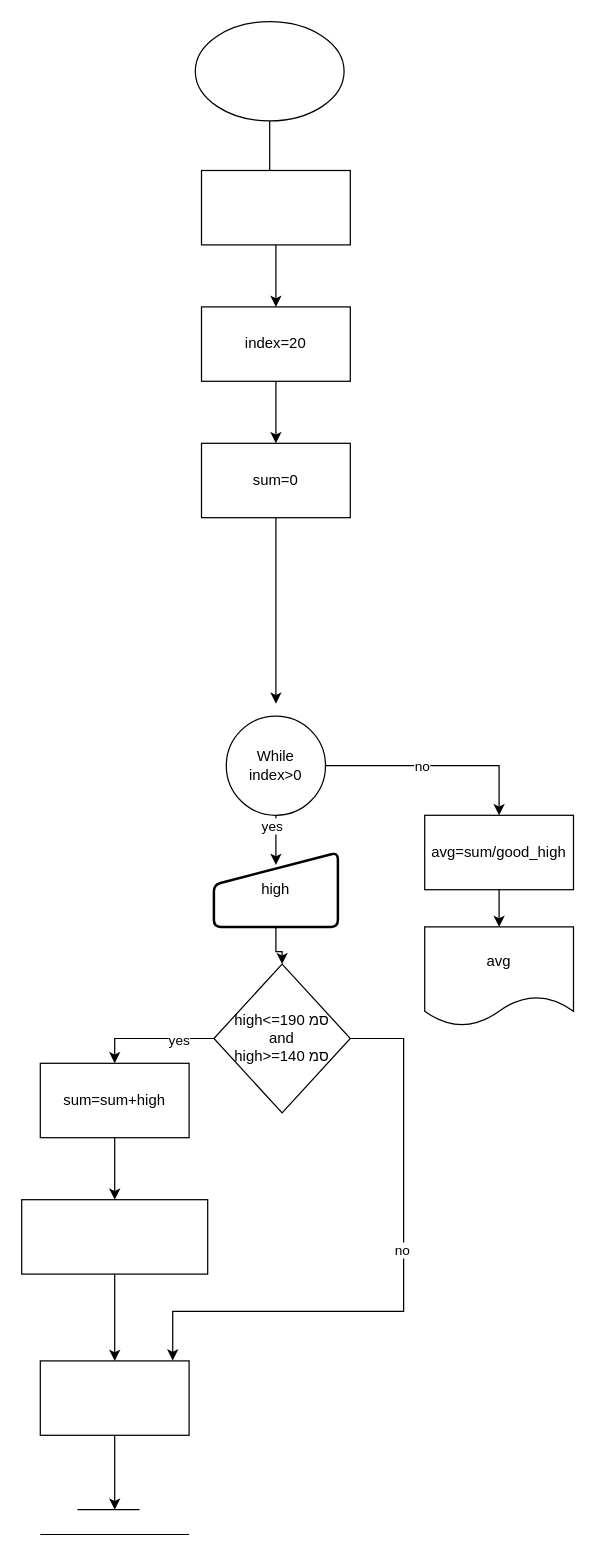
Image size: 595x1557. Some labels were removed from this diagram. Here are the shapes that lost their labels. From the top down, the centre of each, then its label:
At pixel 269 70: "START".
At pixel 275 207: "good_high=0".
At pixel 114 1236: "good_high=good_high+1".
At pixel 114 1397: "index= index-1".
